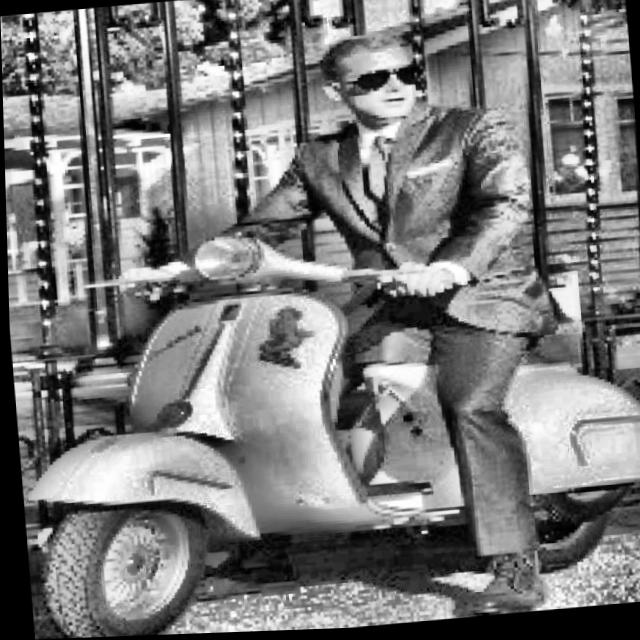motorcycle: (16, 191, 640, 640)
